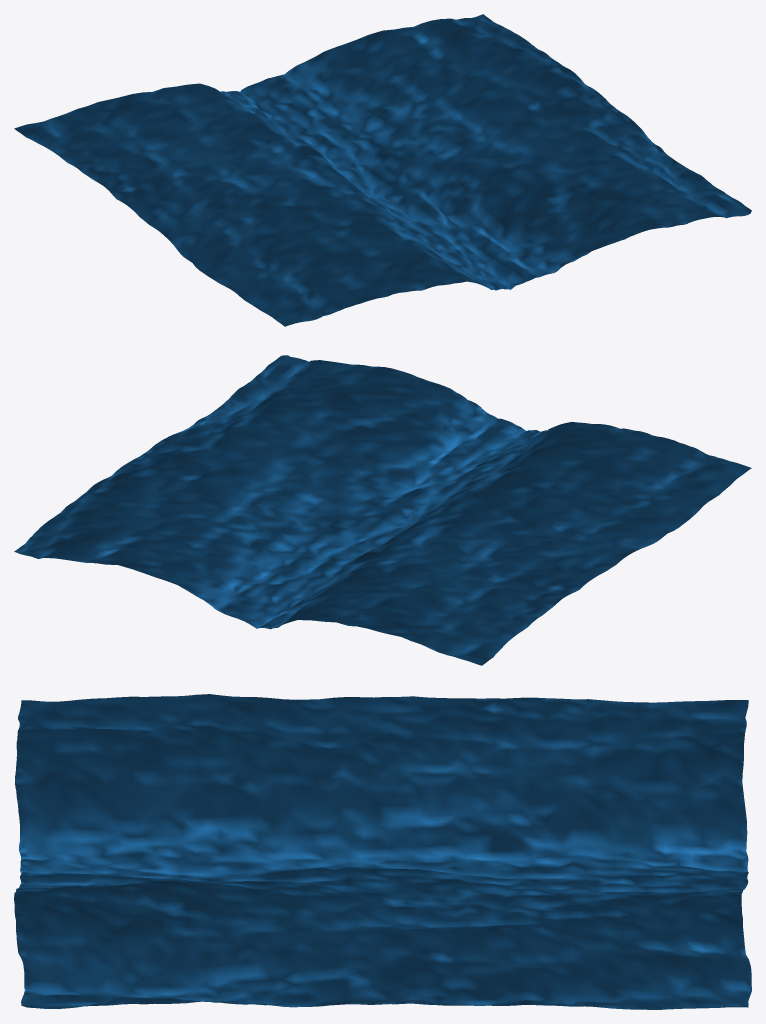
File: Ocean01.fbx
3 renders of one model, top to bottom at view 1: azimuth 30°, elevation 25°; view 2: azimuth 150°, elevation 25°; view 3: azimuth 270°, elevation 25°, orthographic. The views are drawn at different scales.
Parts seen in each view (by area): view 1: ocean1; view 2: ocean1; view 3: ocean1.
Part boxes in pixels (x1=…): ocean1: x1=14, y1=14, x2=751, y2=326; ocean1: x1=14, y1=355, x2=751, y2=665; ocean1: x1=14, y1=694, x2=751, y2=1009.
Size of the model in its own units: 34.08 by 1.93 by 33.72.
